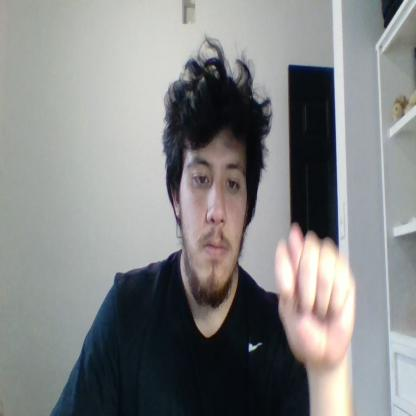T: (276, 222, 357, 367)
